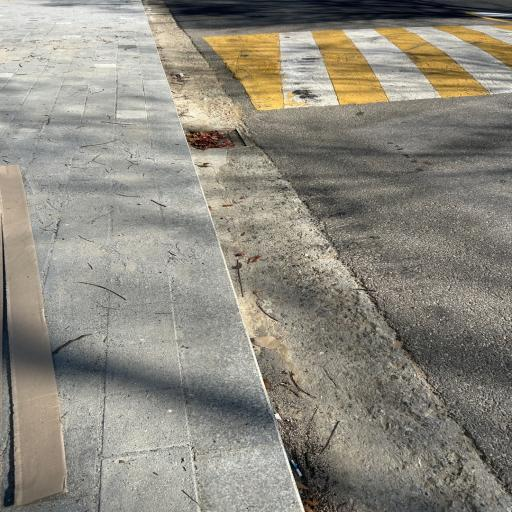debris: (212, 128, 235, 144), (191, 130, 210, 141), (224, 138, 236, 146), (205, 146, 209, 148)
drain: (189, 128, 244, 149)
